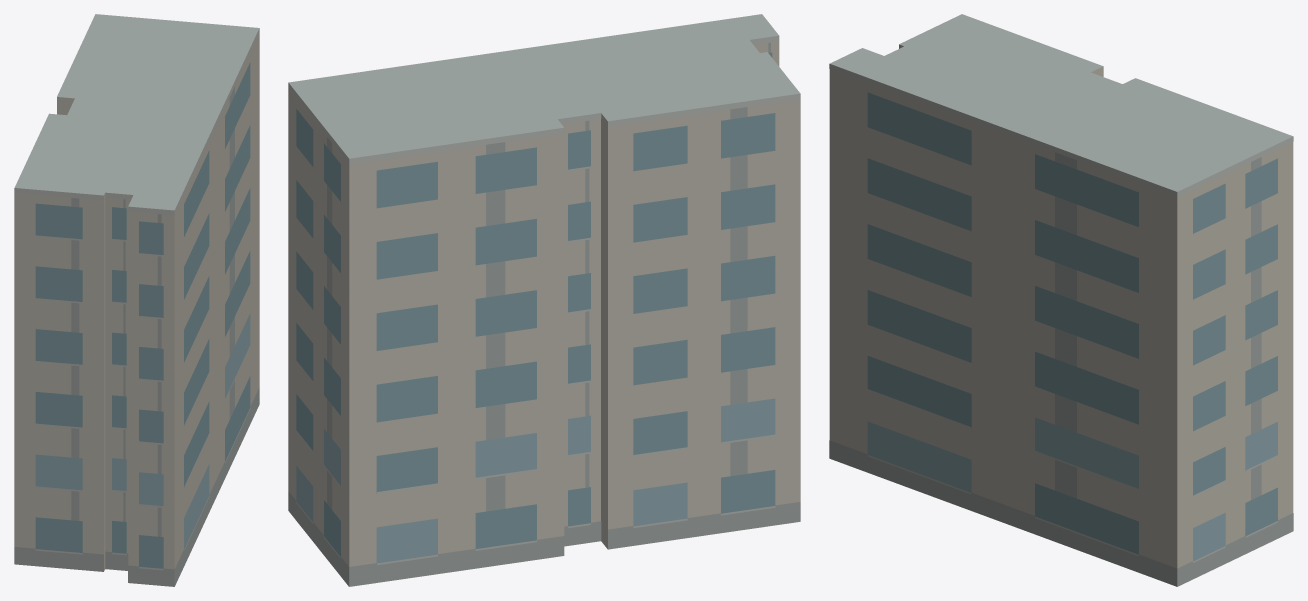
The model's file is survey-upis-32626747.glb.
3 views of the same model, side by side, from view 1: azimuth 30°, elevation 25°; view 2: azimuth 150°, elevation 25°; view 3: azimuth 270°, elevation 25° (orthographic). The views are drawn at different scales.
Parts seen in each view (by area): view 1: survey-upis-32626747.tmp; view 2: survey-upis-32626747.tmp; view 3: survey-upis-32626747.tmp.
Boxes of the visible parts, <box> form: survey-upis-32626747.tmp: <box>14,14,259,586</box>; survey-upis-32626747.tmp: <box>288,14,800,586</box>; survey-upis-32626747.tmp: <box>829,14,1293,586</box>.
Size of the model in its own units: 17.41 by 18 by 19.17.
